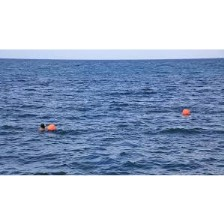buoy: (181, 108, 190, 116), (47, 123, 55, 131)
